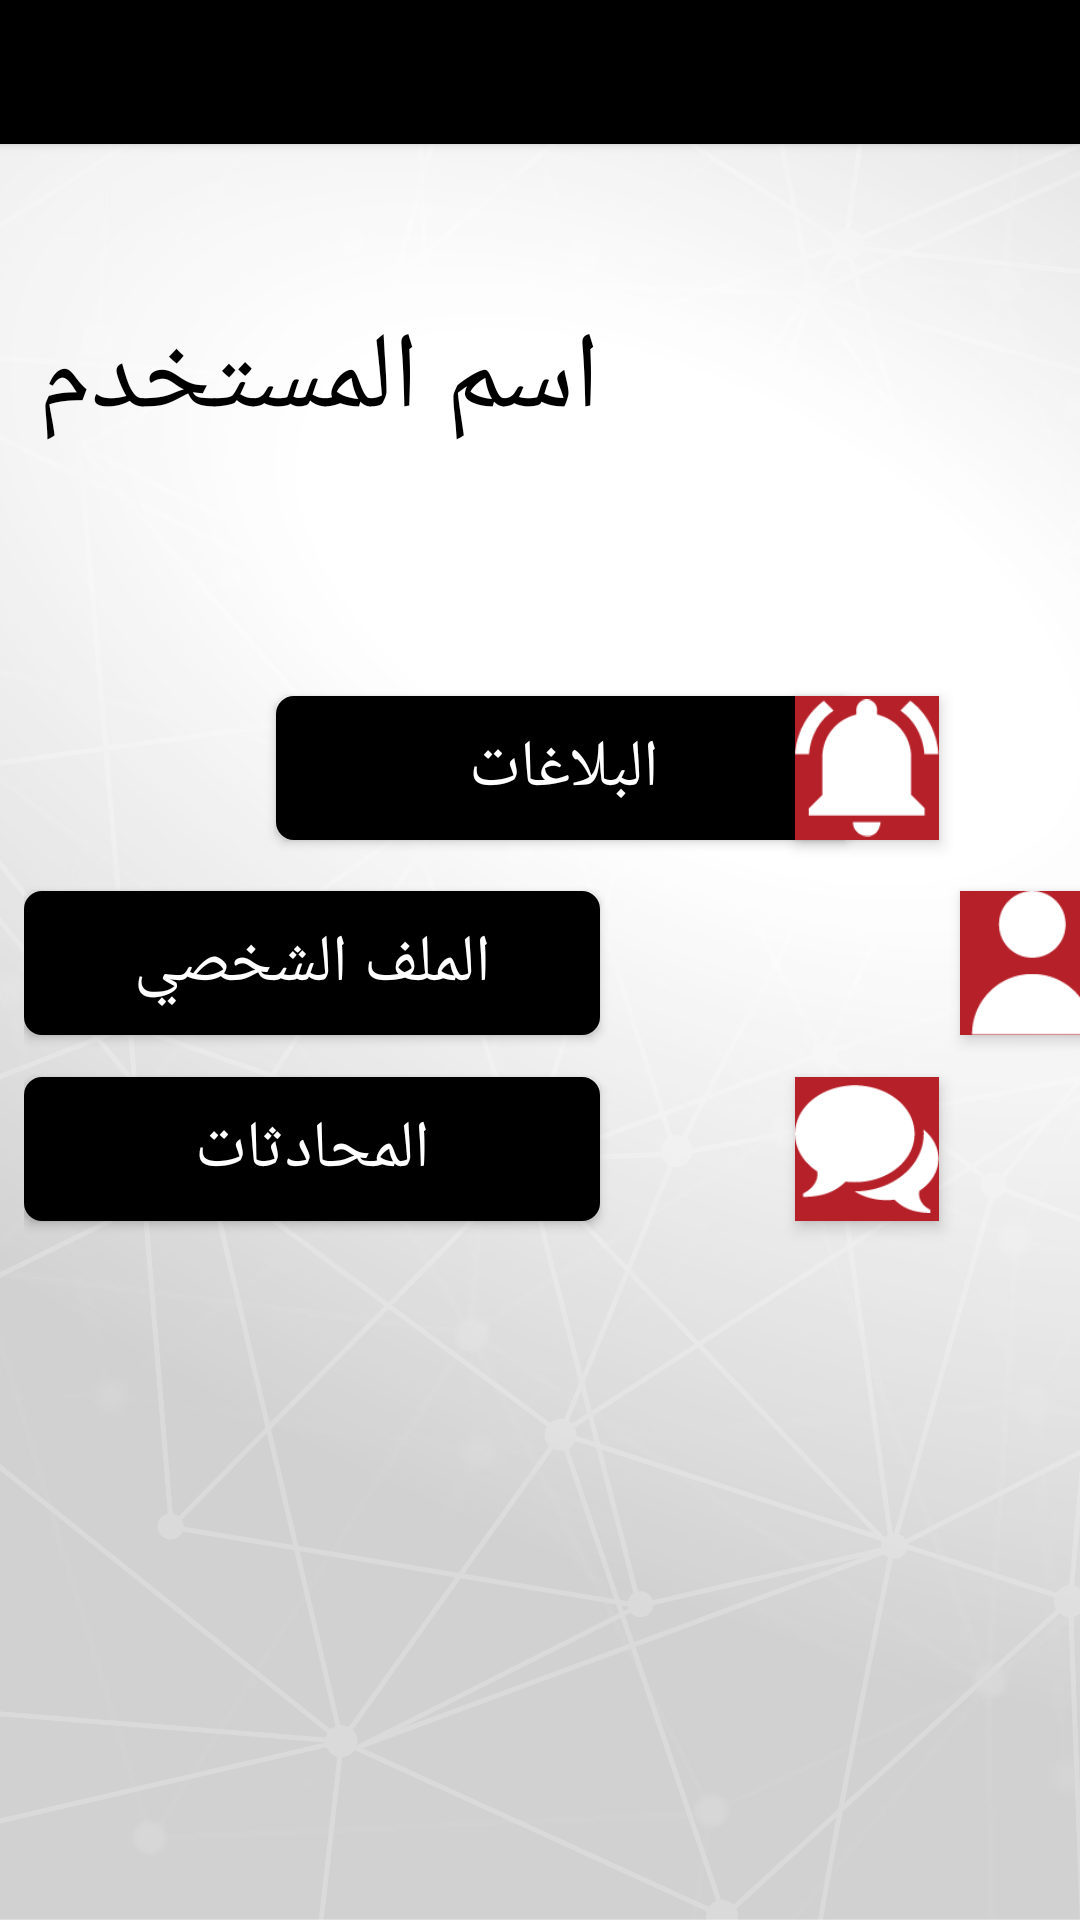

Screen size 1080w x 1920h. Icon name, then its center in pixels as (x,y):
bellicon: (867,768)
chaticon: (867,1149)
